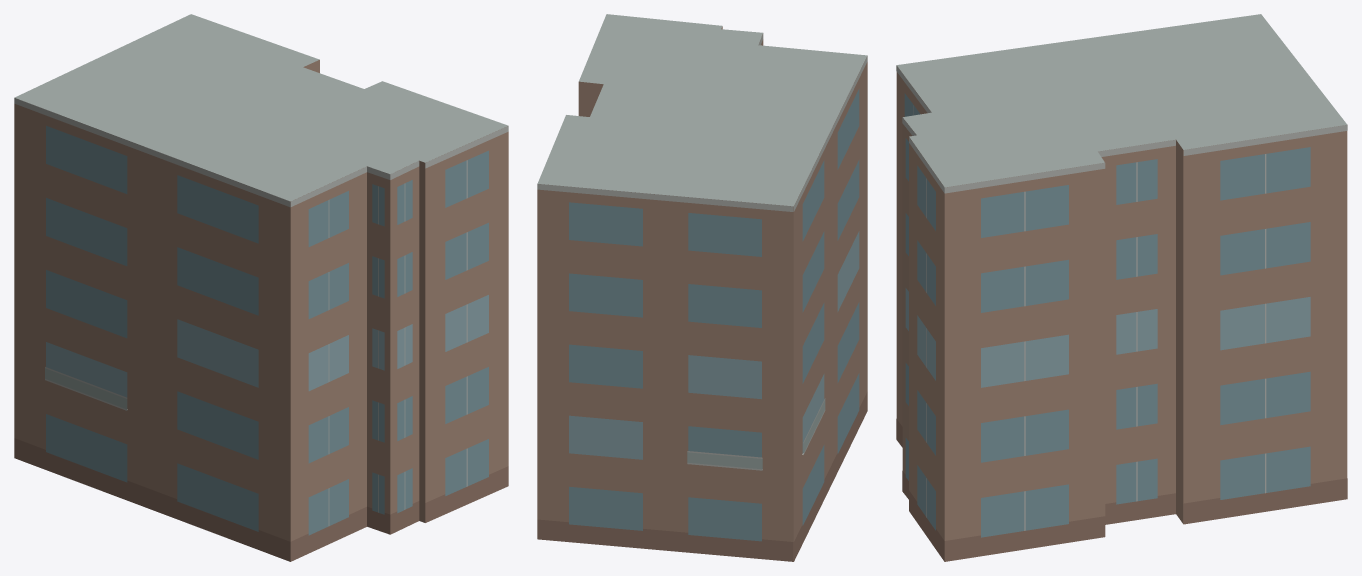
The model's file is survey-upis-32670986.glb.
The picture shows the model from 3 angles, left to right: view 1: azimuth 30°, elevation 25°; view 2: azimuth 150°, elevation 25°; view 3: azimuth 270°, elevation 25°; orthographic projection. The views are drawn at different scales.
Visible parts, largest first — view 1: survey-upis-32670986.tmp; view 2: survey-upis-32670986.tmp; view 3: survey-upis-32670986.tmp.
Part boxes in pixels (<box>): survey-upis-32670986.tmp: <box>14,14,508,561</box>; survey-upis-32670986.tmp: <box>537,14,867,561</box>; survey-upis-32670986.tmp: <box>896,14,1347,561</box>.
Bounding box in the file's own units: 14.91 × 15 × 16.38.
